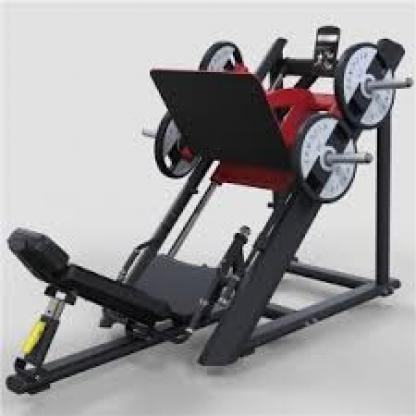leg press: (3, 12, 416, 409)
